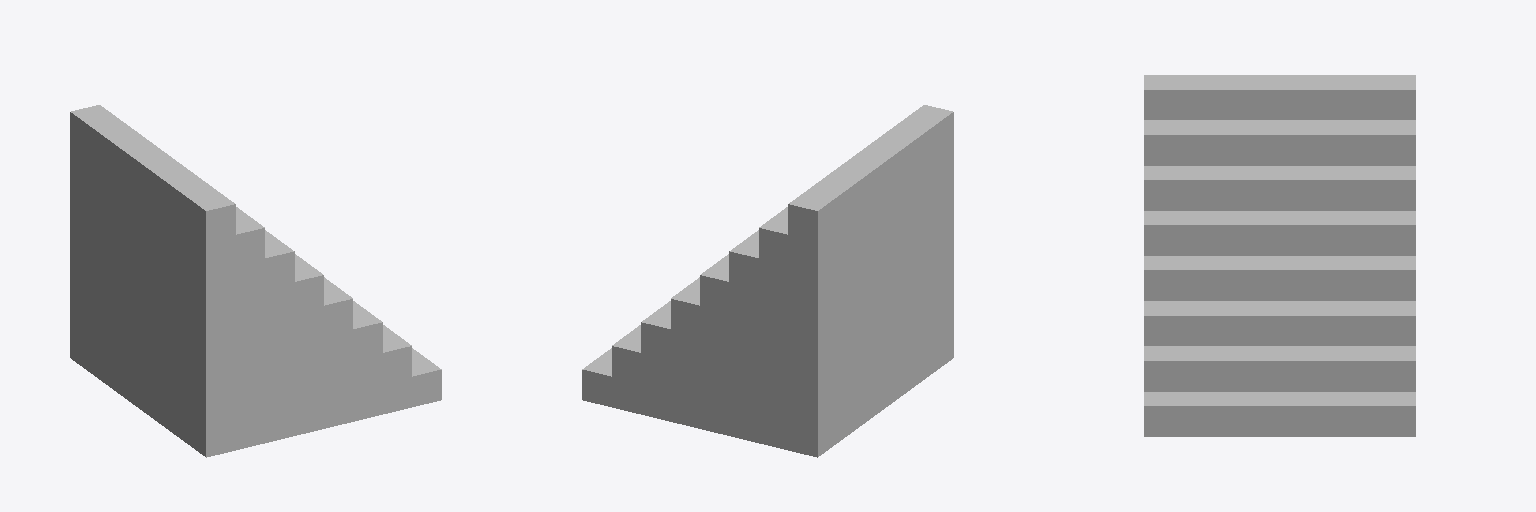
File: Primitive_Stairs.obj
The picture shows the model from 3 angles: view 1: azimuth 30°, elevation 25°; view 2: azimuth 150°, elevation 25°; view 3: azimuth 270°, elevation 25°; orthographic projection.
Visible parts, largest first — view 1: Primitive_Stairs_Cube.16426; view 2: Primitive_Stairs_Cube.16426; view 3: Primitive_Stairs_Cube.16426.
Part boxes in pixels (x1,y1,x2,y2): Primitive_Stairs_Cube.16426: (70, 105, 441, 457); Primitive_Stairs_Cube.16426: (582, 105, 953, 457); Primitive_Stairs_Cube.16426: (1144, 75, 1415, 436).
Size of the model in its own units: 4 by 4 by 4.